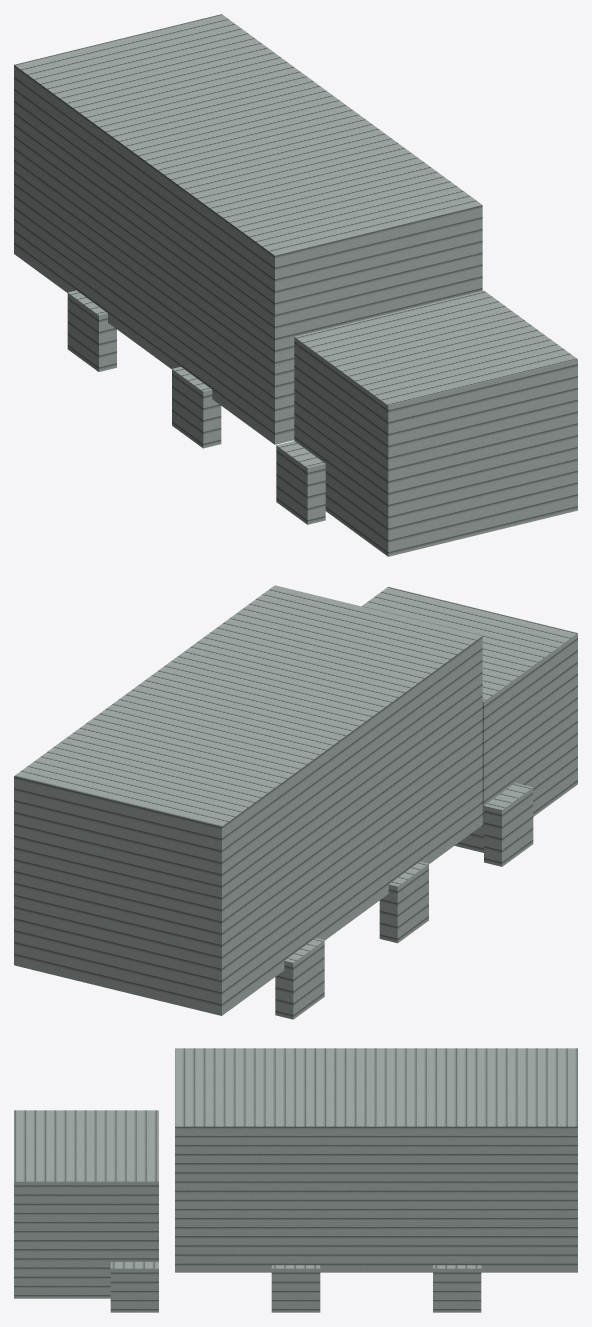
File: vehicle_grain_truck.glb
3 views of the same model, one above another, from view 1: azimuth 30°, elevation 25°; view 2: azimuth 150°, elevation 25°; view 3: azimuth 270°, elevation 25° (orthographic). The views are drawn at different scales.
Visible parts, largest first — view 1: vehicle_grain_truck-col; view 2: vehicle_grain_truck-col; view 3: vehicle_grain_truck-col.
Part boxes in pixels (bbox=[...]): vehicle_grain_truck-col: bbox=[14, 14, 577, 556]; vehicle_grain_truck-col: bbox=[14, 585, 577, 1019]; vehicle_grain_truck-col: bbox=[14, 1048, 577, 1312].
Size of the model in its own units: 2.5 by 2.5 by 7.
Materials: 1 (1 with a texture image).
